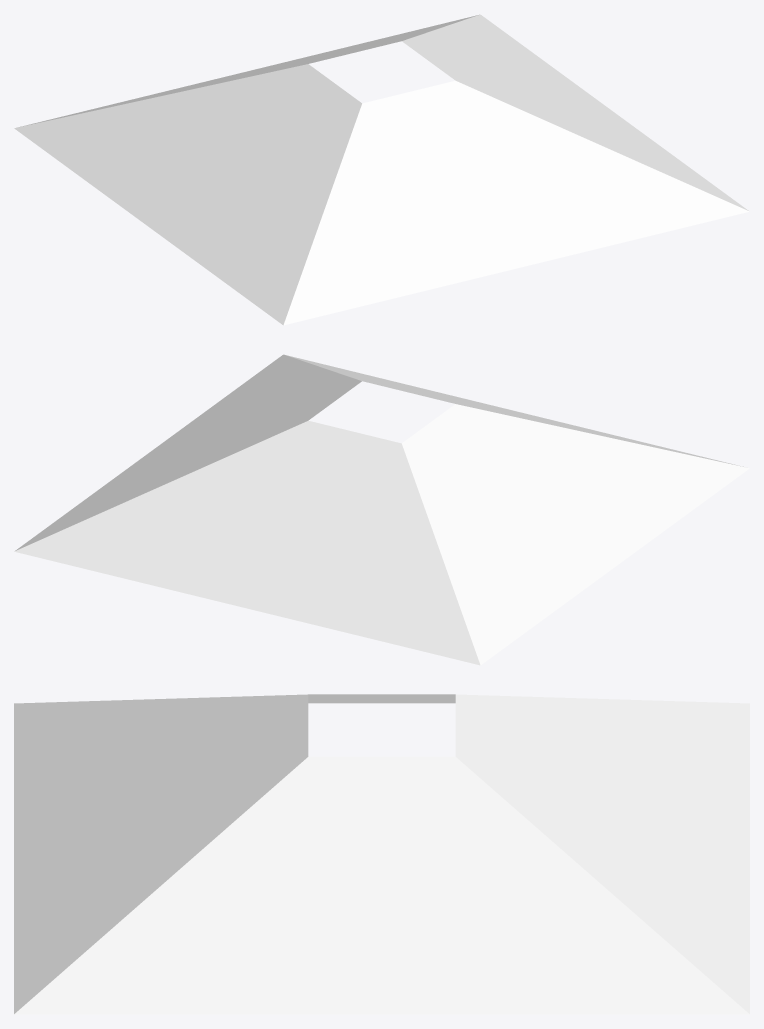
The model's file is light-beam.fbx.
3 views of the same model, one above another, from view 1: azimuth 30°, elevation 25°; view 2: azimuth 150°, elevation 25°; view 3: azimuth 270°, elevation 25° (orthographic). The views are drawn at different scales.
Visible parts, largest first — view 1: light-beam; view 2: light-beam; view 3: light-beam.
Part boxes in pixels (x1,y1,x2,y2): light-beam: (14, 14, 749, 325); light-beam: (14, 354, 749, 665); light-beam: (14, 694, 749, 1014).
Bounding box in the file's own units: 500 × 100 × 500.
Materials: 1 (1 with a texture image).
